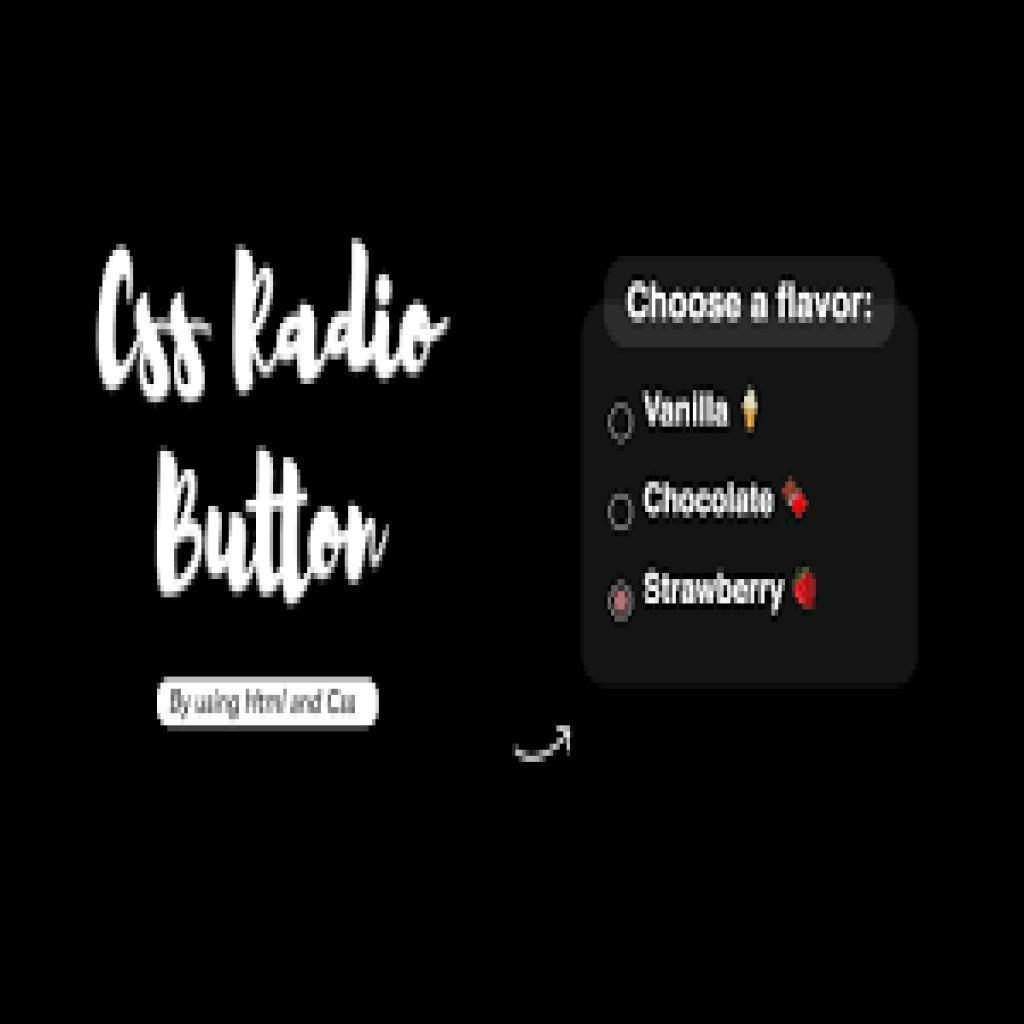button: (156, 679, 375, 725)
label: (644, 565, 825, 616), (644, 480, 810, 527), (642, 389, 764, 432)
radio: (605, 576, 639, 624), (604, 489, 635, 538), (610, 398, 634, 454)
